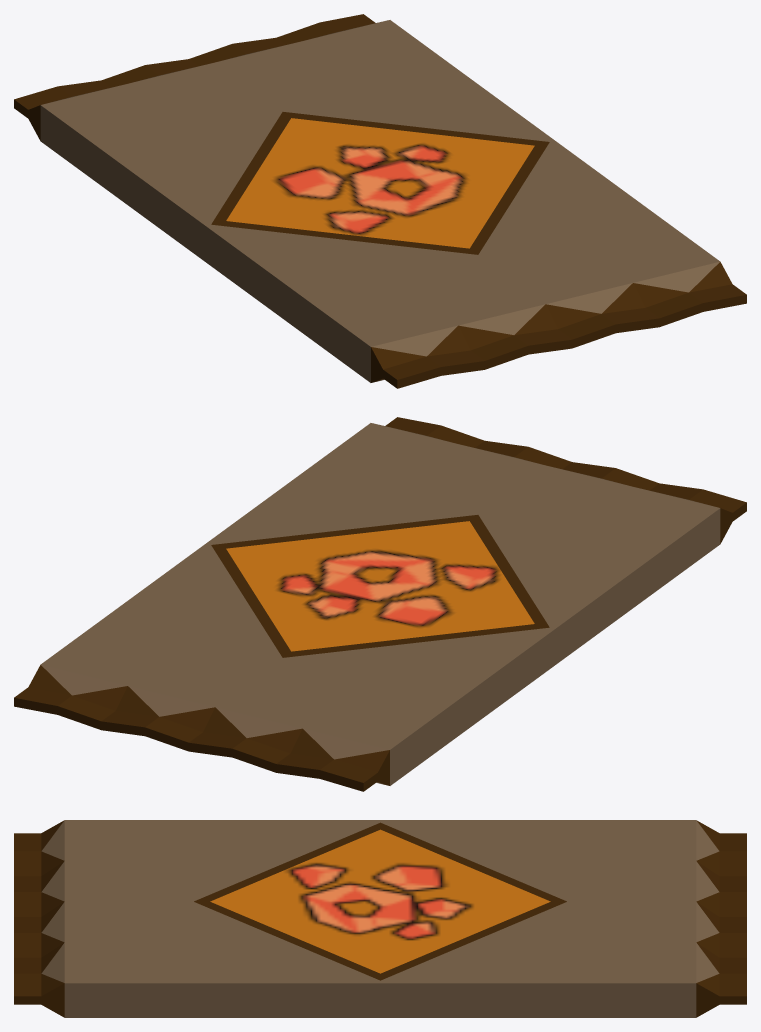
Rendered from CardPack_Earth.fbx.
3 views of the same model, one above another, from view 1: azimuth 30°, elevation 25°; view 2: azimuth 150°, elevation 25°; view 3: azimuth 270°, elevation 25° (orthographic). The views are drawn at different scales.
Parts seen in each view (by area): view 1: Earth; view 2: Earth; view 3: Earth.
Boxes of the visible parts, left/top/right/bottom form: Earth: left=14, top=14, right=746, bottom=388; Earth: left=14, top=417, right=746, bottom=791; Earth: left=14, top=820, right=746, bottom=1017.
Bounding box in the file's own units: 17.42 × 1.73 × 33.09.
